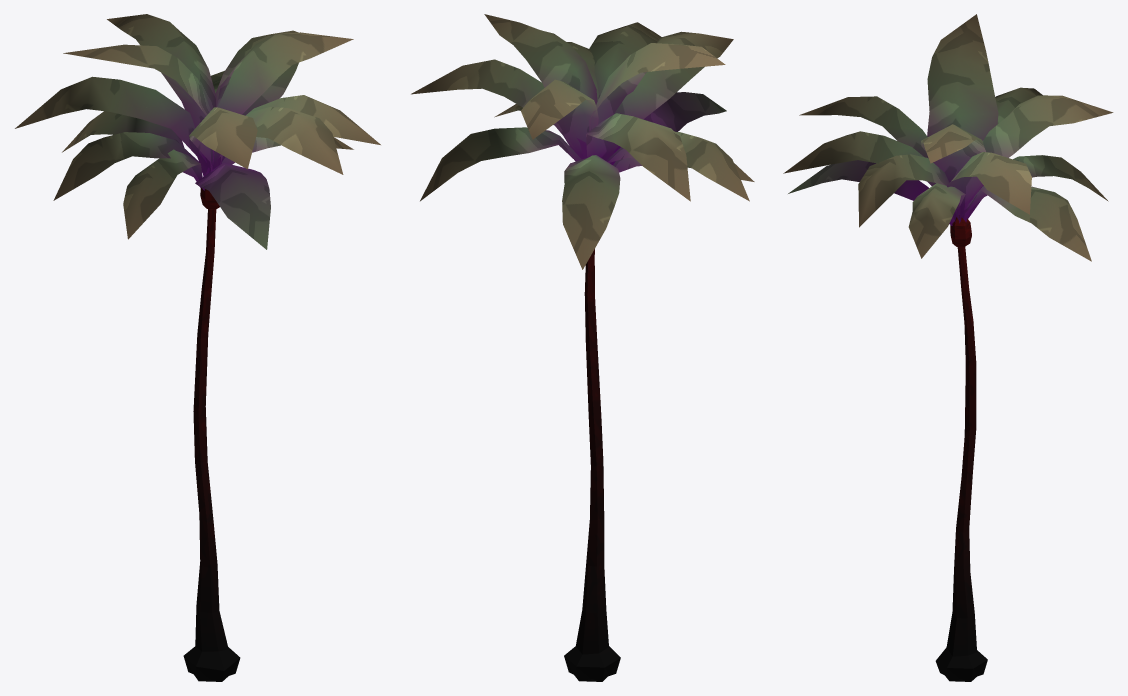
The model's file is SM_Env_Tree_Palm_04.glb.
3 renders of one model, left to right at view 1: azimuth 30°, elevation 25°; view 2: azimuth 150°, elevation 25°; view 3: azimuth 270°, elevation 25°, orthographic. The views are drawn at different scales.
Parts seen in each view (by area): view 1: SM_Env_Tree_Palm_04_LOD0; view 2: SM_Env_Tree_Palm_04_LOD0; view 3: SM_Env_Tree_Palm_04_LOD0.
Boxes of the visible parts, x1=… form: SM_Env_Tree_Palm_04_LOD0: x1=15, y1=14, x2=380, y2=681; SM_Env_Tree_Palm_04_LOD0: x1=411, y1=14, x2=754, y2=681; SM_Env_Tree_Palm_04_LOD0: x1=783, y1=14, x2=1113, y2=681.
Size of the model in its own units: 7.34 by 15.2 by 7.53.
1 material, 1 textured.
